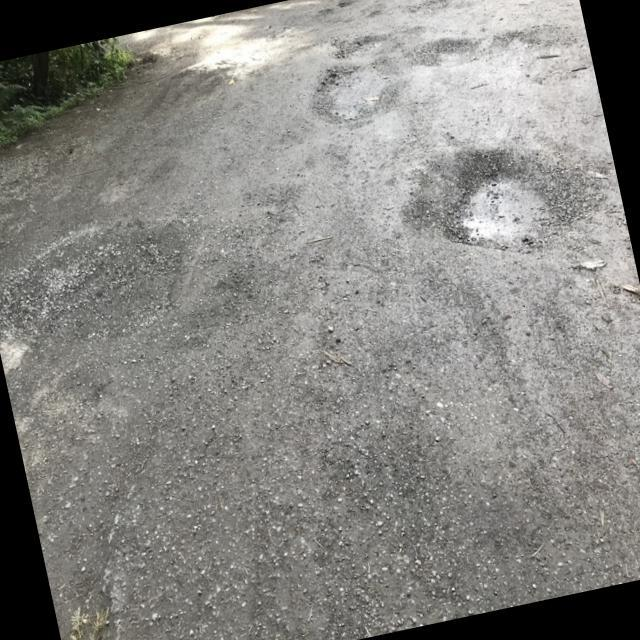Pothole: (430, 146, 579, 270), (311, 56, 401, 130), (490, 23, 576, 88), (409, 30, 478, 74), (330, 32, 385, 62)
